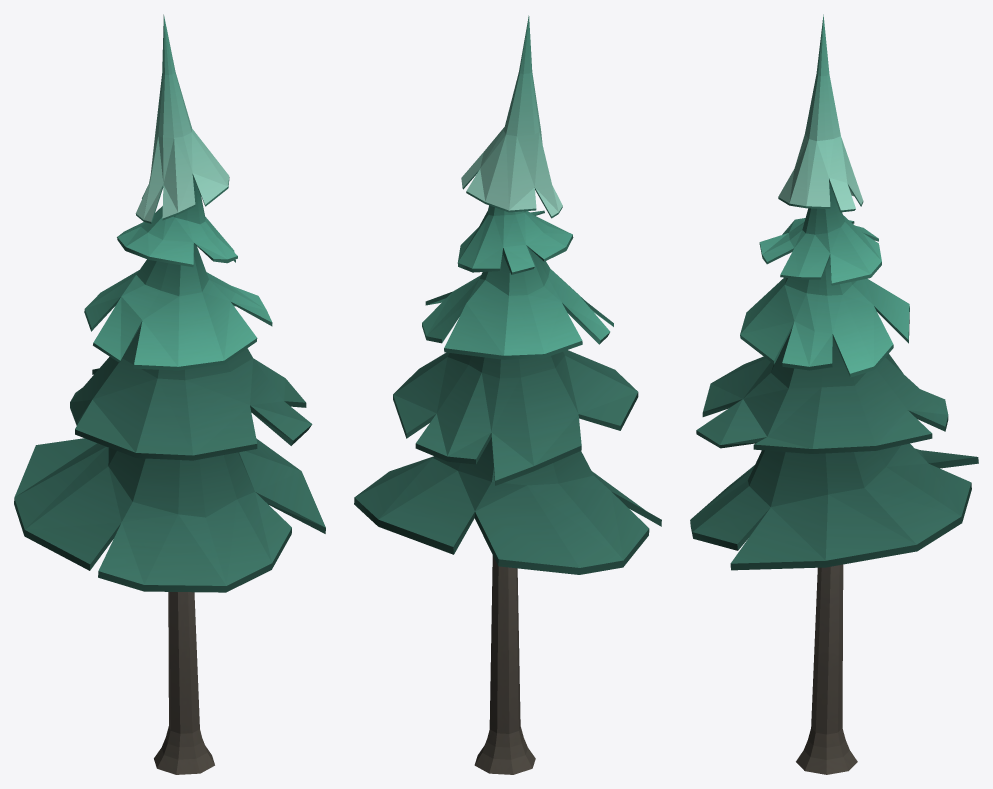
The model's file is ZLP_Plant_K_11.FBX.
3 renders of one model, left to right at view 1: azimuth 30°, elevation 25°; view 2: azimuth 150°, elevation 25°; view 3: azimuth 270°, elevation 25°, orthographic. The views are drawn at different scales.
Visible parts, largest first — view 1: ZLP_Plant_K_11; view 2: ZLP_Plant_K_11; view 3: ZLP_Plant_K_11.
Part boxes in pixels (x1,y1,x2,y2): ZLP_Plant_K_11: (14, 14, 325, 774); ZLP_Plant_K_11: (354, 15, 661, 774); ZLP_Plant_K_11: (690, 14, 978, 774).
Size of the model in its own units: 219 by 616 by 219.
